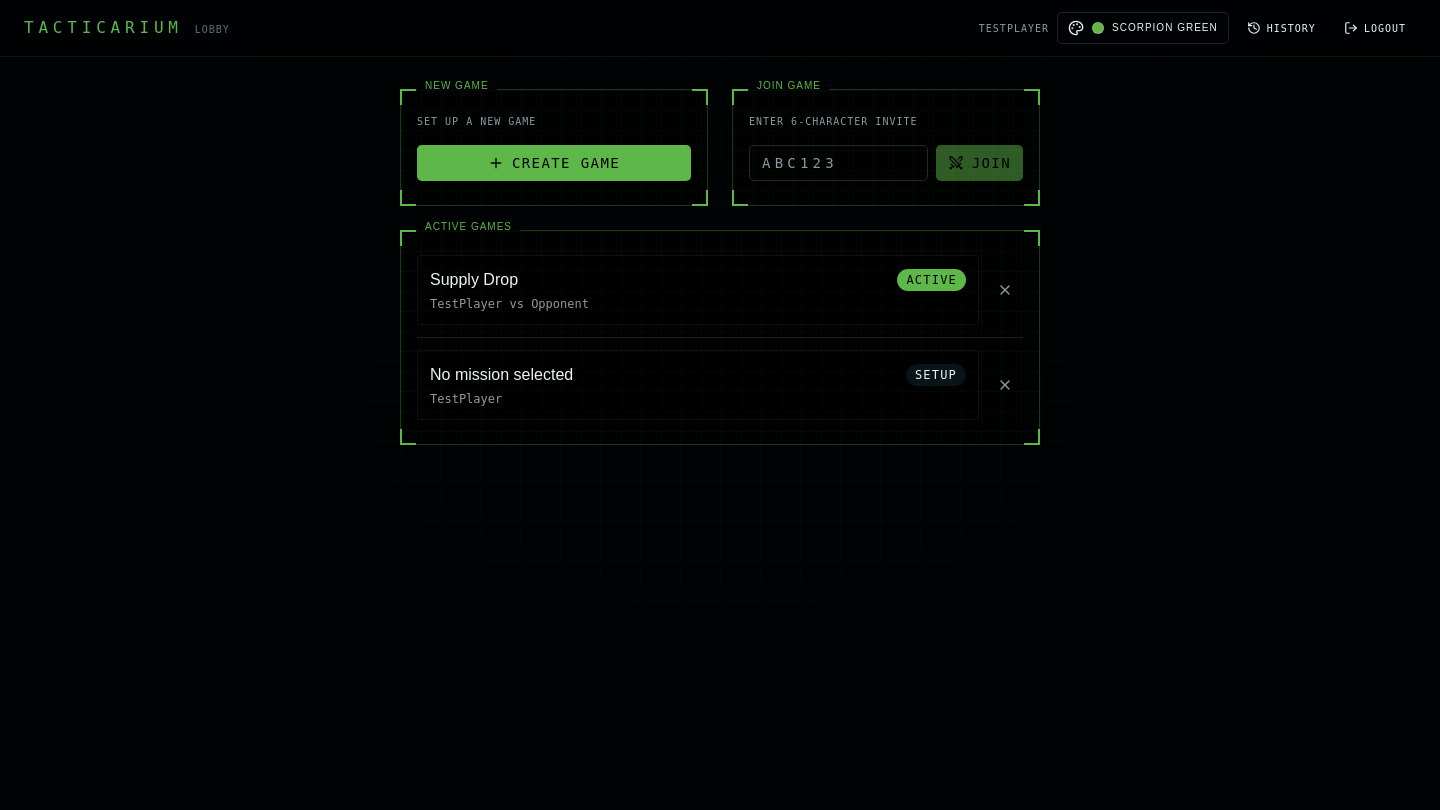
Test: LobbyPage - Remove Game › closes modal when cancel is clicked
Check: the text "Supply Drop" is shown, box [430,268,518,292]
Click the 1st button named "Remove game" at (1005, 290), box [987,272,1023,308]
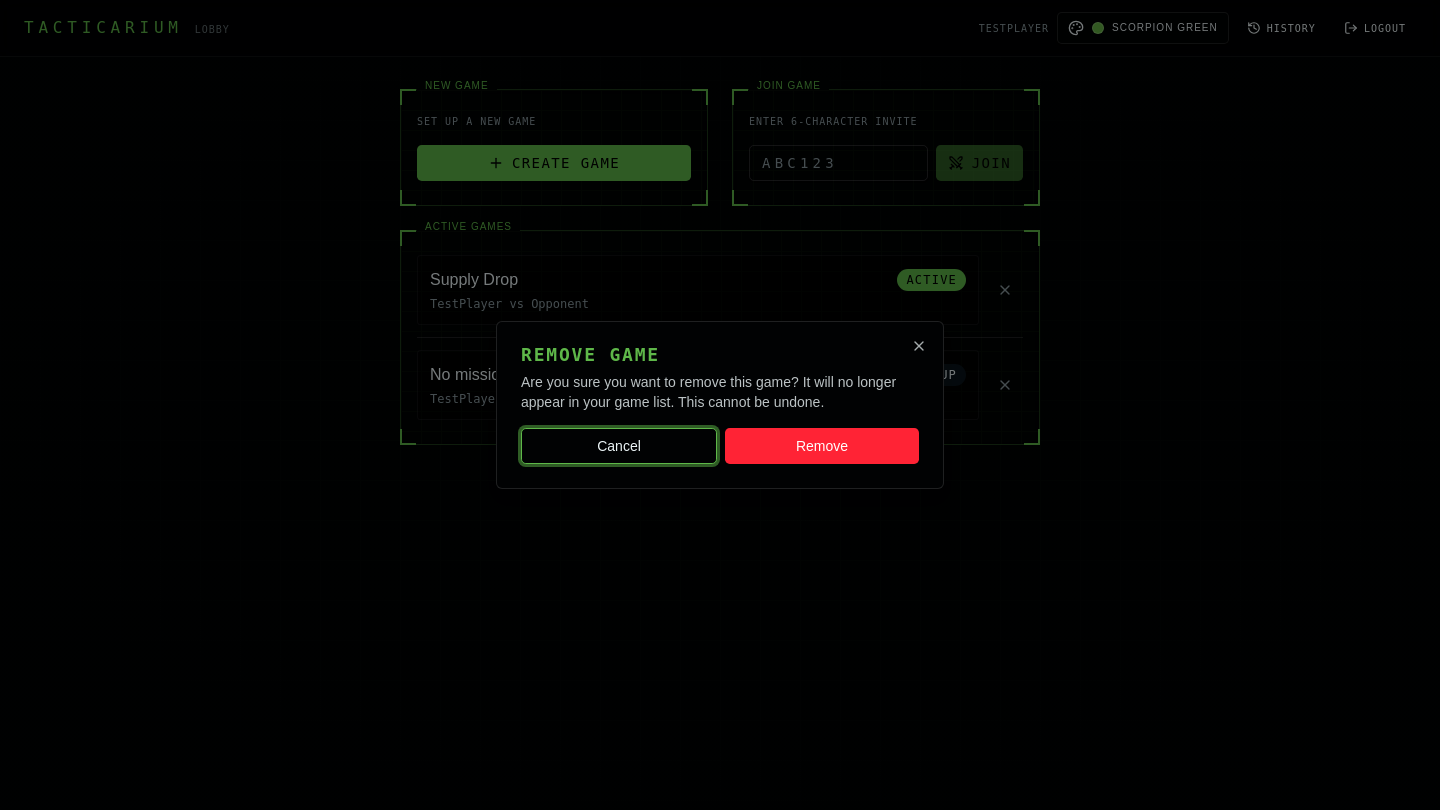
Check: the heading "Remove Game" is shown, box [521,344,660,365]
Click the button "Cancel" at (619, 446), box [521,428,717,464]
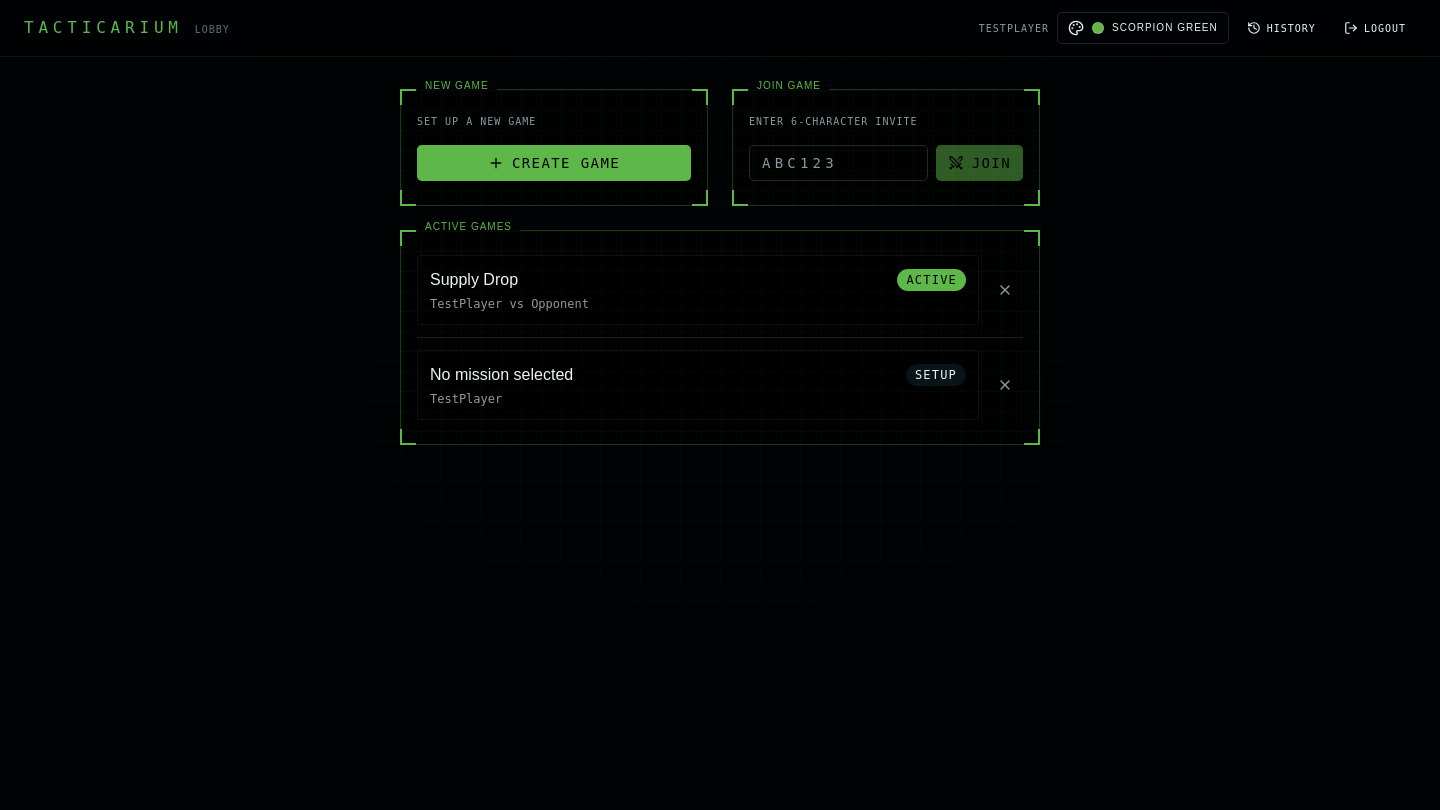
Check: the text "Supply Drop" is shown, box [430,268,518,292]
Check: the heading "Remove Game" is gone
